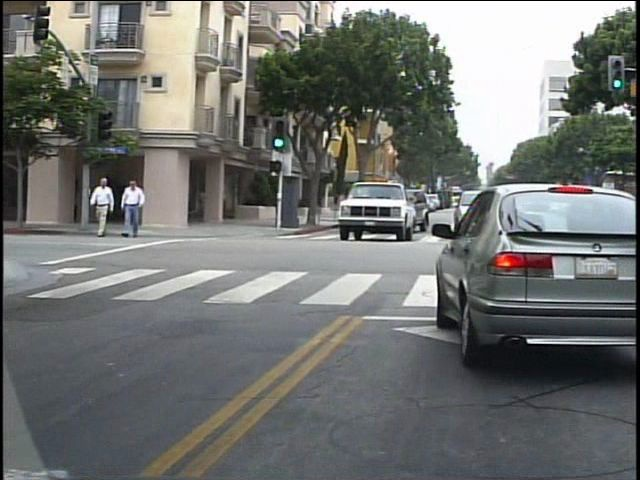person: (94, 171, 124, 242), (126, 175, 155, 242)
